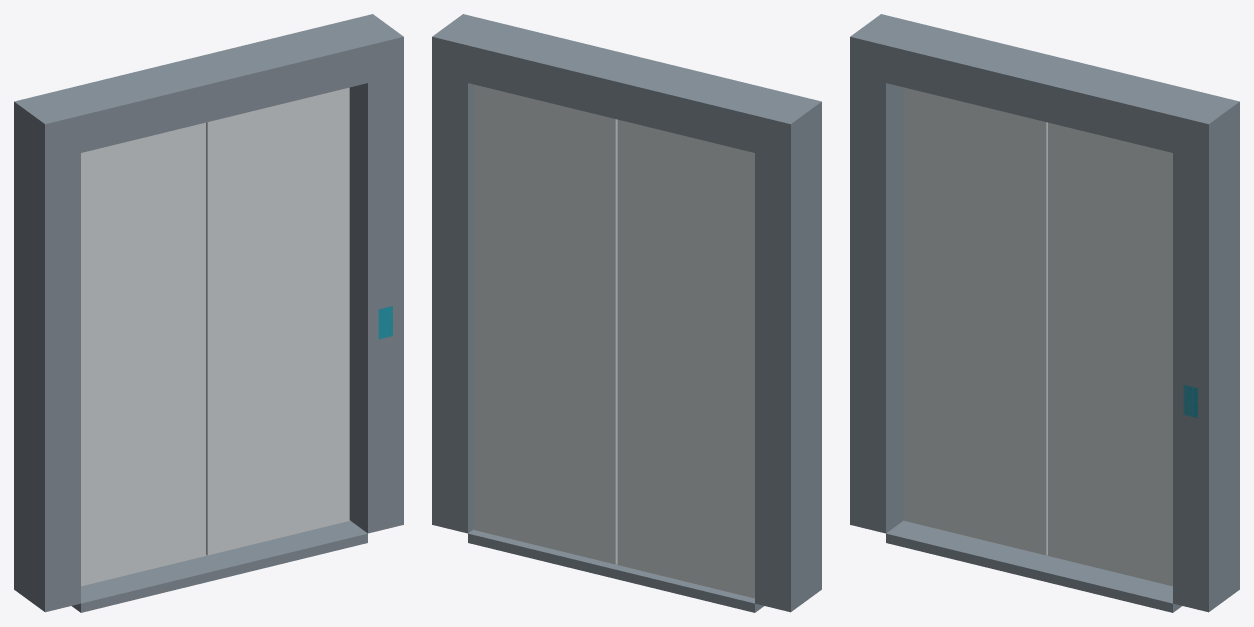
File: elevator-entrance.v1.low.glb
3 renders of one model, left to right at view 1: azimuth 30°, elevation 25°; view 2: azimuth 150°, elevation 25°; view 3: azimuth 330°, elevation 25°, orthographic.
Parts seen in each view (by area): view 1: door_right, door_left, mesh_frame_-0.9, mesh_frame_0.9, mesh_lintel, mesh_threshold; view 2: door_right, door_left, mesh_frame_-0.9, mesh_frame_0.9, mesh_lintel, mesh_threshold; view 3: door_left, door_right, mesh_frame_0.9, mesh_frame_-0.9, mesh_lintel, mesh_threshold.
Boxes of the visible parts, x1=… form: door_right: x1=206, y1=87, x2=349, y2=555; door_left: x1=81, y1=122, x2=205, y2=586; mesh_frame_-0.9: x1=14, y1=93, x2=80, y2=612; mesh_frame_0.9: x1=337, y1=14, x2=403, y2=533; mesh_lintel: x1=50, y1=23, x2=367, y2=152; mesh_threshold: x1=72, y1=520, x2=367, y2=612; door_right: x1=474, y1=84, x2=617, y2=564; door_left: x1=617, y1=119, x2=754, y2=598; mesh_frame_-0.9: x1=755, y1=93, x2=821, y2=612; mesh_frame_0.9: x1=432, y1=14, x2=498, y2=533; mesh_lintel: x1=468, y1=23, x2=785, y2=152; mesh_threshold: x1=468, y1=529, x2=763, y2=612; door_left: x1=904, y1=87, x2=1047, y2=555; door_right: x1=1048, y1=122, x2=1172, y2=586; mesh_frame_0.9: x1=1173, y1=93, x2=1239, y2=612; mesh_frame_-0.9: x1=850, y1=14, x2=916, y2=533; mesh_lintel: x1=886, y1=23, x2=1203, y2=152; mesh_threshold: x1=886, y1=520, x2=1181, y2=612.
Bounding box in the file's own units: 2 × 2.65 × 0.3.
